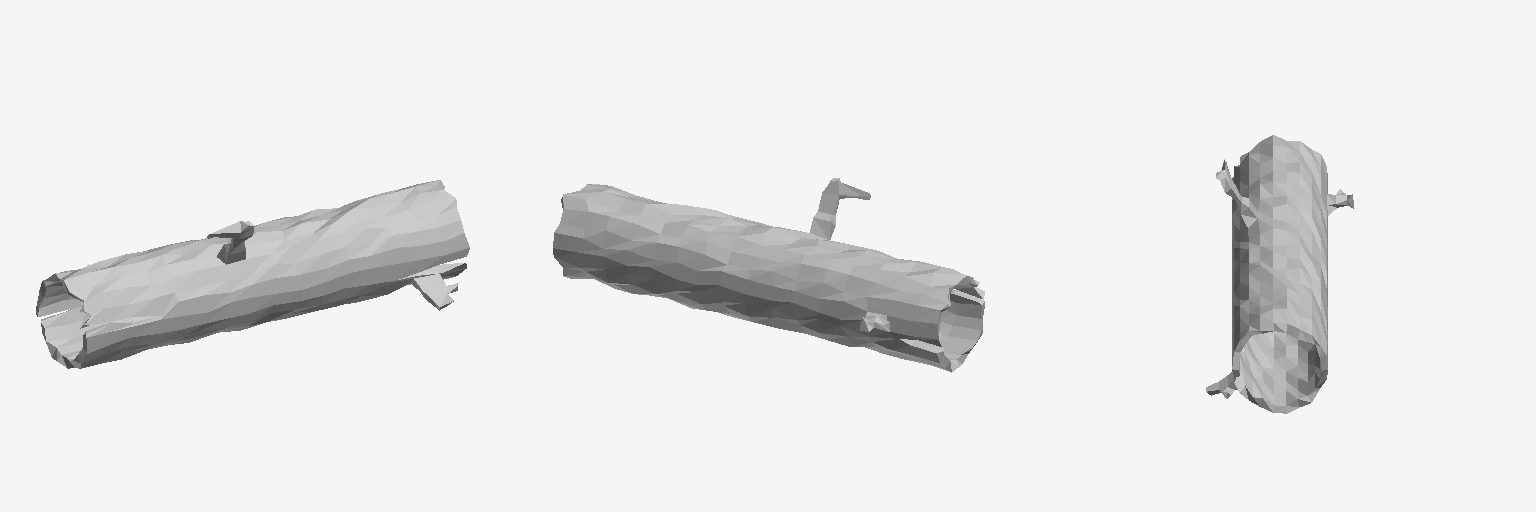
Rendered from log-3.obj.
3 views of the same model, side by side, from view 1: azimuth 30°, elevation 25°; view 2: azimuth 150°, elevation 25°; view 3: azimuth 270°, elevation 25° (orthographic).
Visible parts, largest first — view 1: Tube003; view 2: Tube003; view 3: Tube003.
Part boxes in pixels (x1,y1,x2,y2): Tube003: (36, 180, 469, 368); Tube003: (553, 178, 984, 372); Tube003: (1206, 135, 1353, 413).
Size of the model in its own units: 88.28 by 28.02 by 28.65.